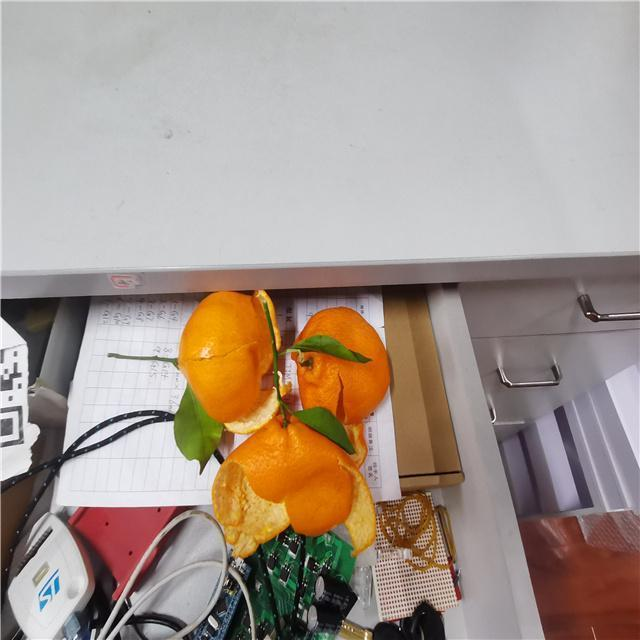orange peel: (208, 407, 384, 554), (175, 288, 282, 424), (296, 304, 396, 423)
